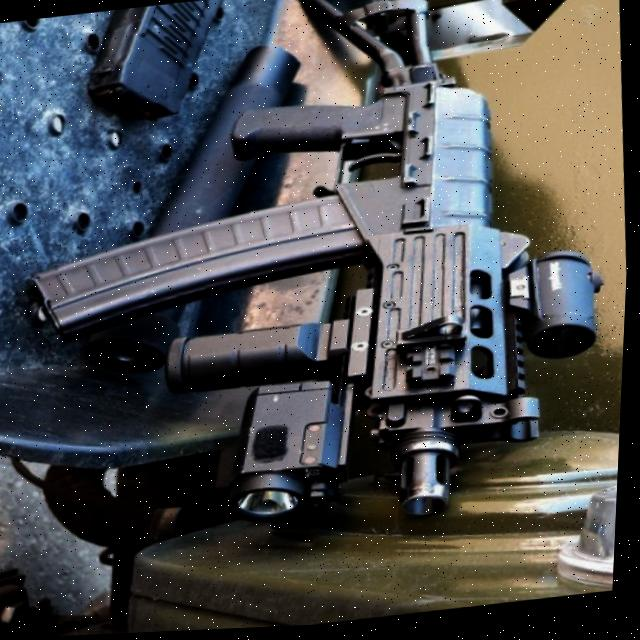firearm: (0, 0, 637, 562)
